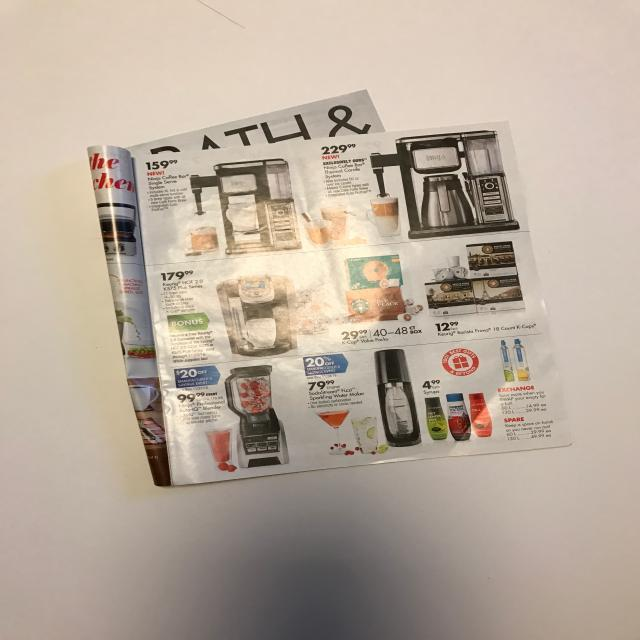paper: (90, 89, 580, 487)
